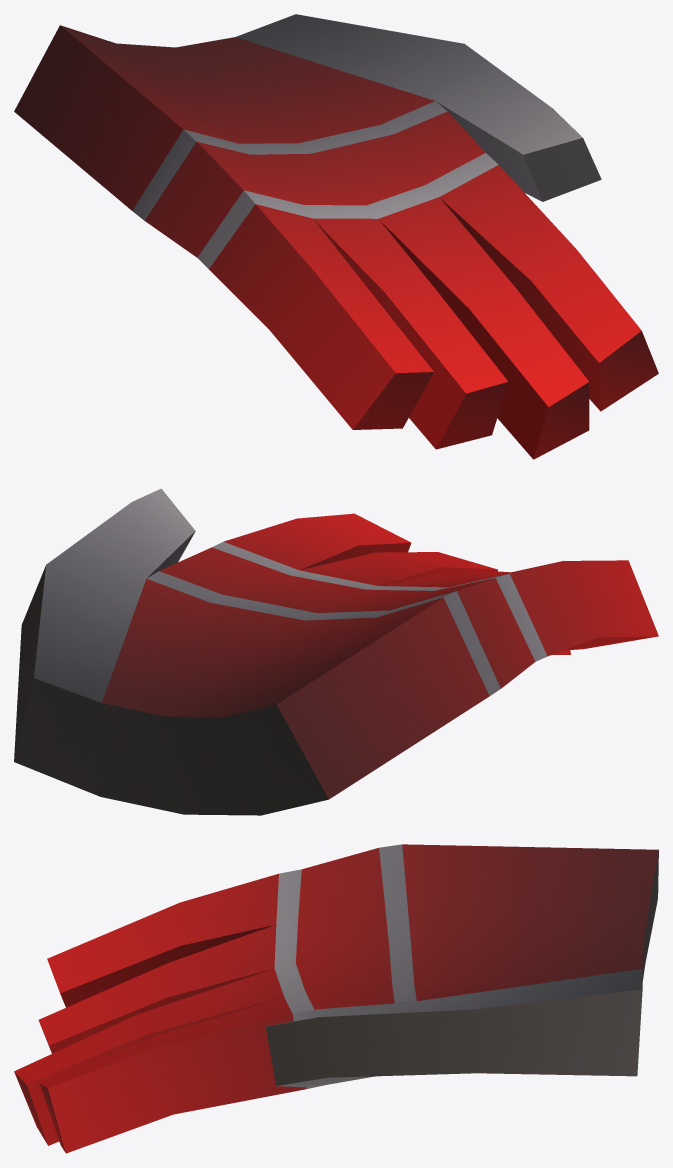
The model's file is Hand_Left_Stretch.FBX.
3 renders of one model, top to bottom at view 1: azimuth 30°, elevation 25°; view 2: azimuth 150°, elevation 25°; view 3: azimuth 270°, elevation 25°, orthographic. The views are drawn at different scales.
Parts seen in each view (by area): view 1: Hand_Left_Stretch; view 2: Hand_Left_Stretch; view 3: Hand_Left_Stretch.
Part boxes in pixels (left/top/right/bottom): Hand_Left_Stretch: left=14, top=14, right=658, bottom=459; Hand_Left_Stretch: left=14, top=488, right=658, bottom=815; Hand_Left_Stretch: left=14, top=844, right=658, bottom=1153.
Bounding box in the file's own units: 0.7012 × 0.3818 × 1.05.
Materials: 1 (1 with a texture image).
